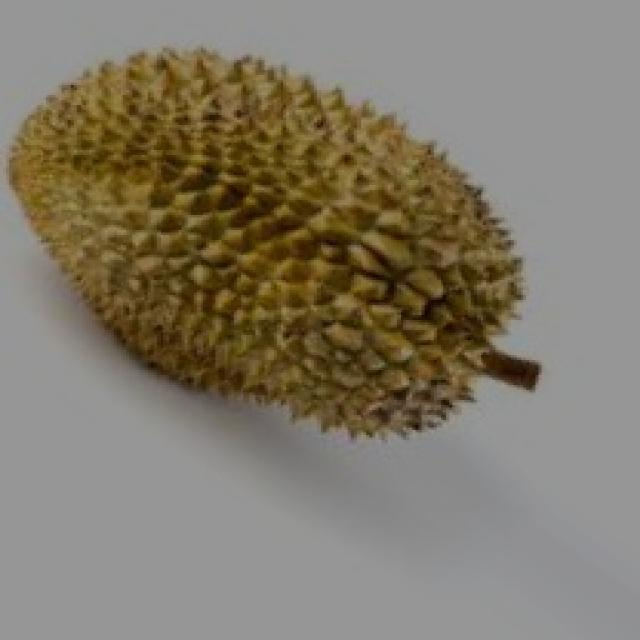fruit: (154, 55, 569, 500), (0, 15, 360, 463)
